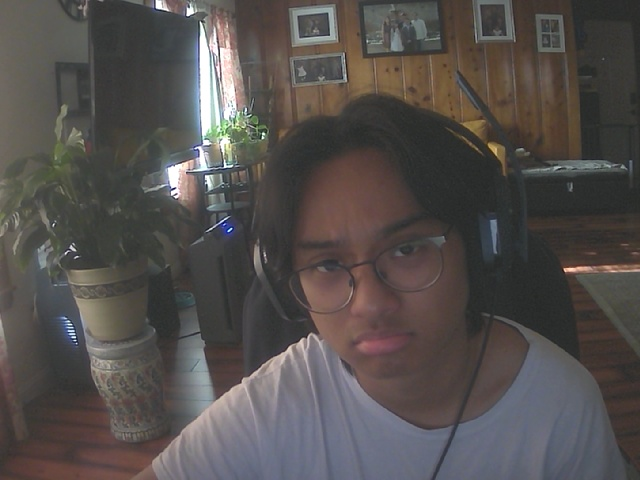sad: (283, 144, 476, 379)
